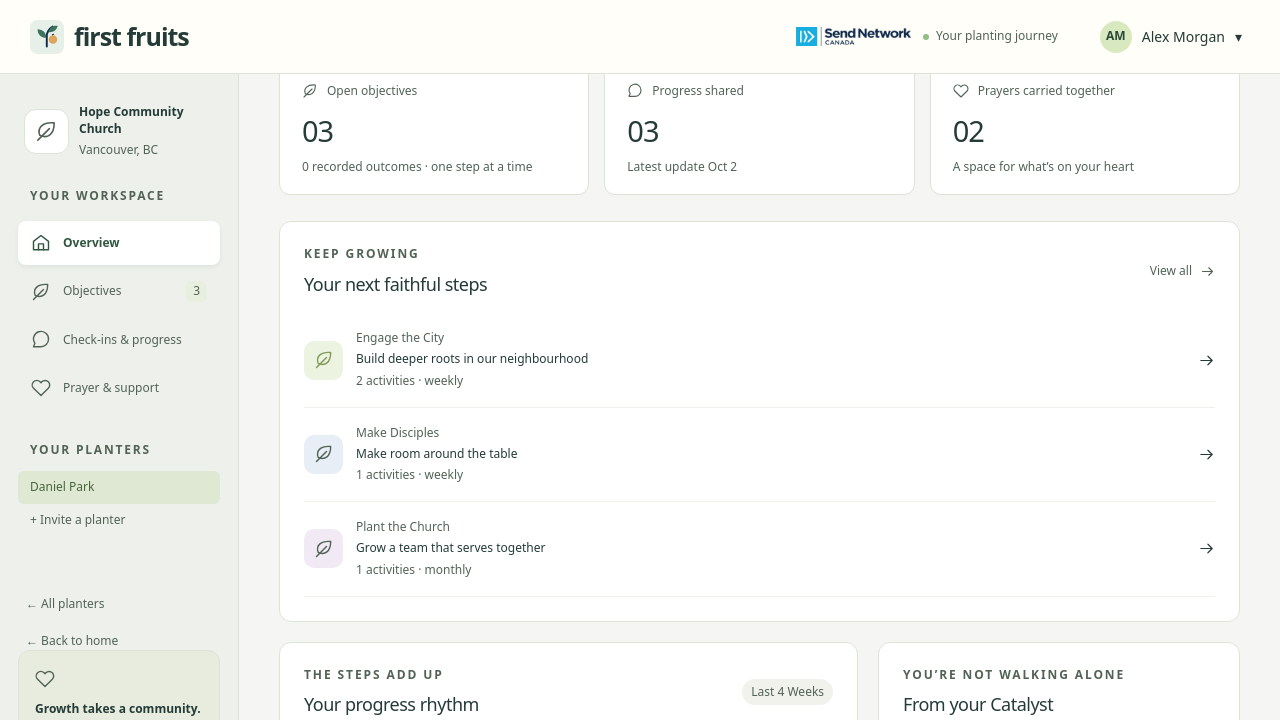
Test: planter workspace › lets Catalysts read and reply without presenting planter editing controls
(page scrolled)
Click the button "Engage the City Build deeper roots" at (324, 360), box [304,313,1215,408]
(page scrolled)
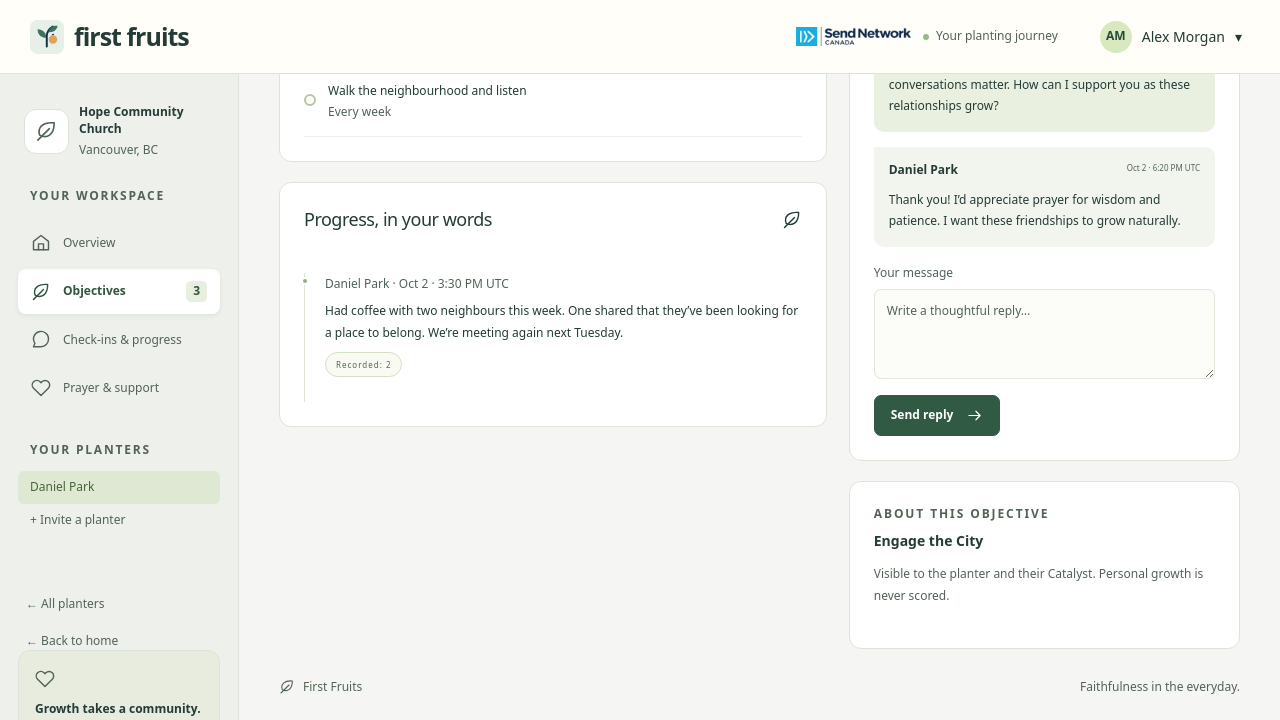
Now the button "Send reply" is shown, box [874,394,1000,436]
